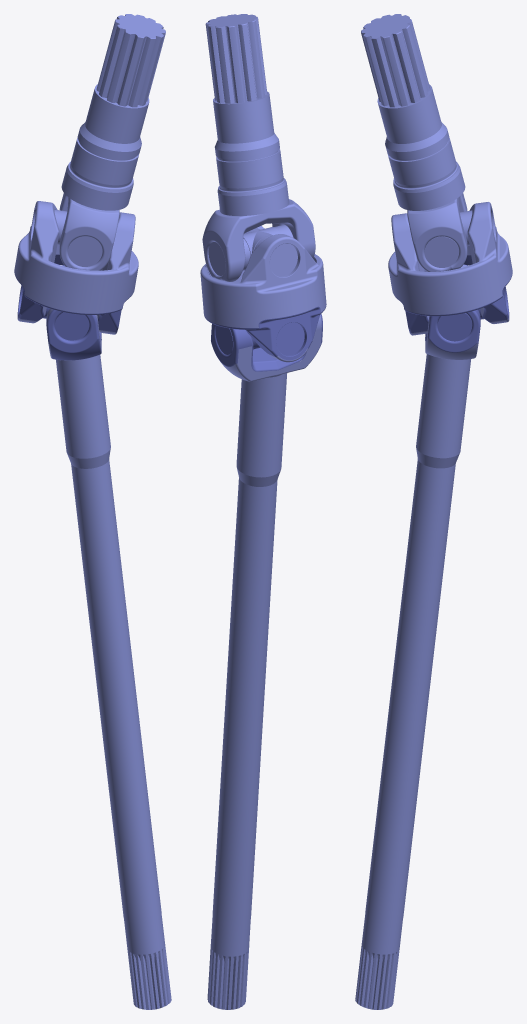
File: product3.glb
The picture shows the model from 3 angles, left to right: view 1: azimuth 90°, elevation 25°; view 2: azimuth 210°, elevation 25°; view 3: azimuth 270°, elevation 25°; orthographic projection.
Parts seen in each view (by area): view 1: Product2_AllCATPart.SLDPRT; view 2: Product2_AllCATPart.SLDPRT; view 3: Product2_AllCATPart.SLDPRT.
Boxes of the visible parts, x1,y1,x2,y2 form: Product2_AllCATPart.SLDPRT: (14, 14, 171, 1009); Product2_AllCATPart.SLDPRT: (200, 14, 326, 1009); Product2_AllCATPart.SLDPRT: (355, 14, 512, 1009).
Size of the model in its own units: 0.095 by 0.8457 by 0.1225.
